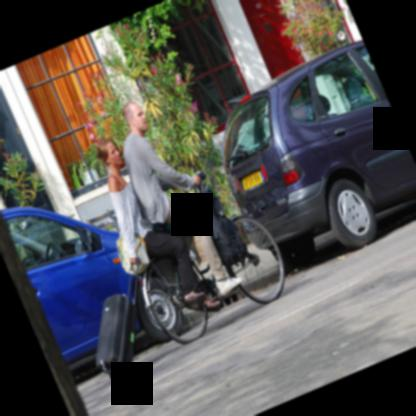backpack: (194, 186, 249, 267)
handbag: (116, 230, 148, 276)
suitcase: (92, 266, 139, 375)
